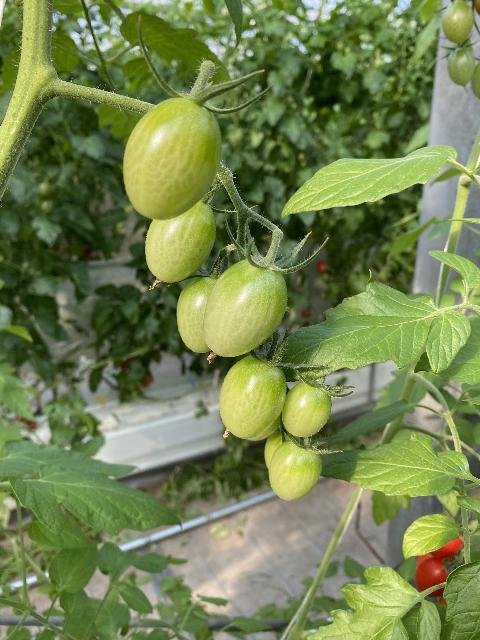l_fully_ripened: (415, 558, 456, 597), (430, 530, 463, 558)
l_green: (123, 94, 223, 221), (203, 259, 288, 357), (219, 351, 287, 440), (145, 200, 217, 284), (176, 276, 221, 354), (269, 439, 323, 499), (281, 378, 331, 437), (264, 427, 296, 470), (443, 0, 474, 44), (446, 46, 478, 87)
